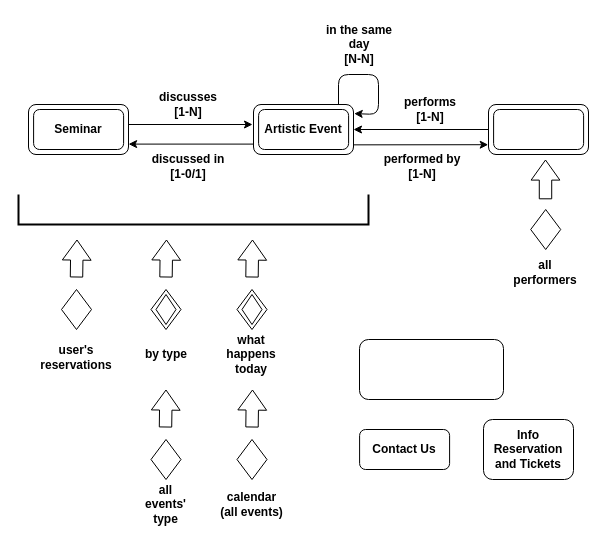
The diagram is 606 pixels wide and 557 high, and some of its shapes have lost their labels. Each missing label, with the centre of its shape:
Home (festival presentation): (431,369)
Performer: (538,129)
